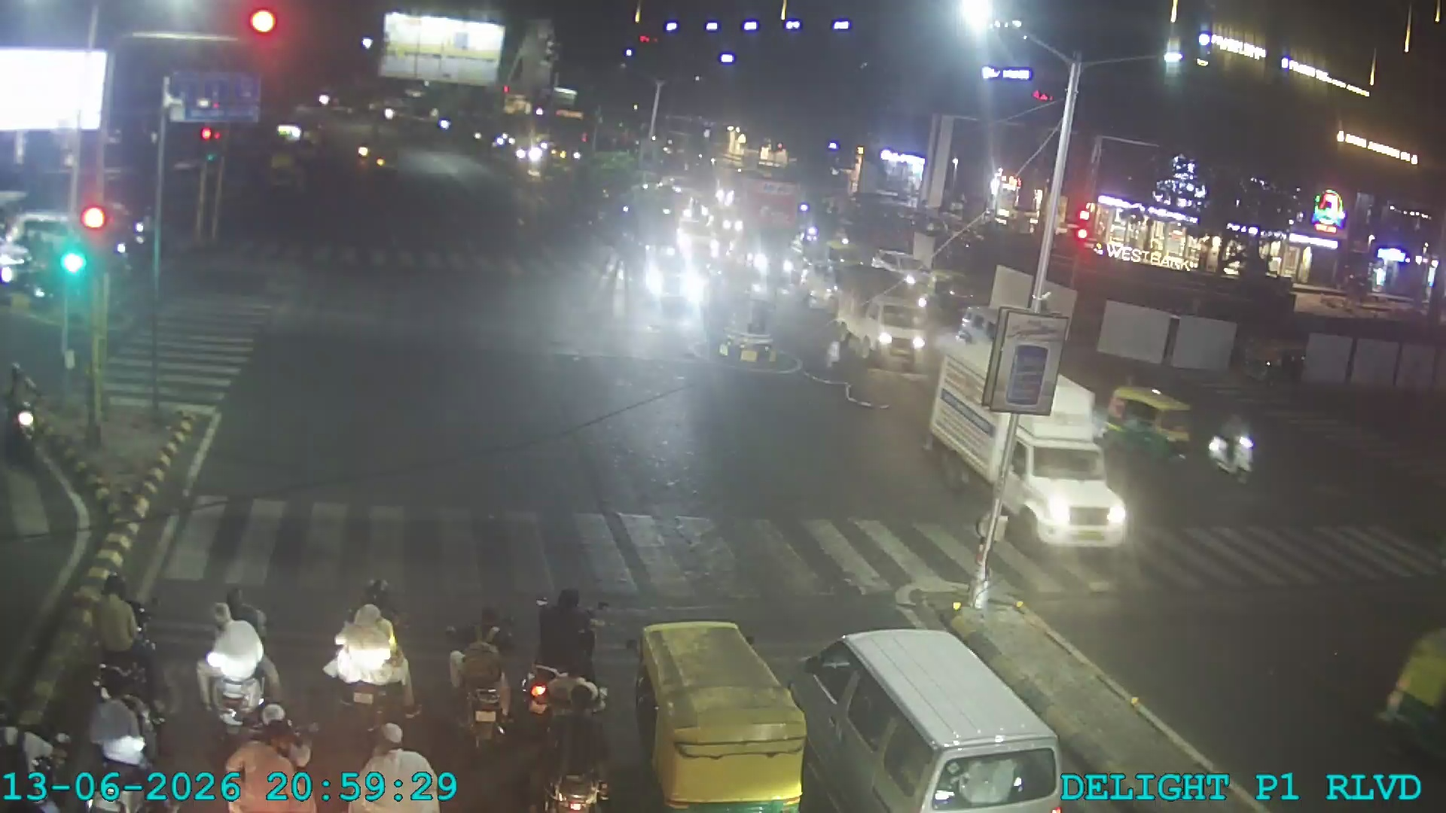auto_rickshaw: (809, 625, 1069, 805), (629, 608, 812, 804), (1101, 381, 1255, 469), (1378, 593, 1446, 770), (1101, 381, 1212, 462)
two_wheeler: (320, 579, 421, 742), (188, 589, 285, 730), (1198, 397, 1267, 484)
